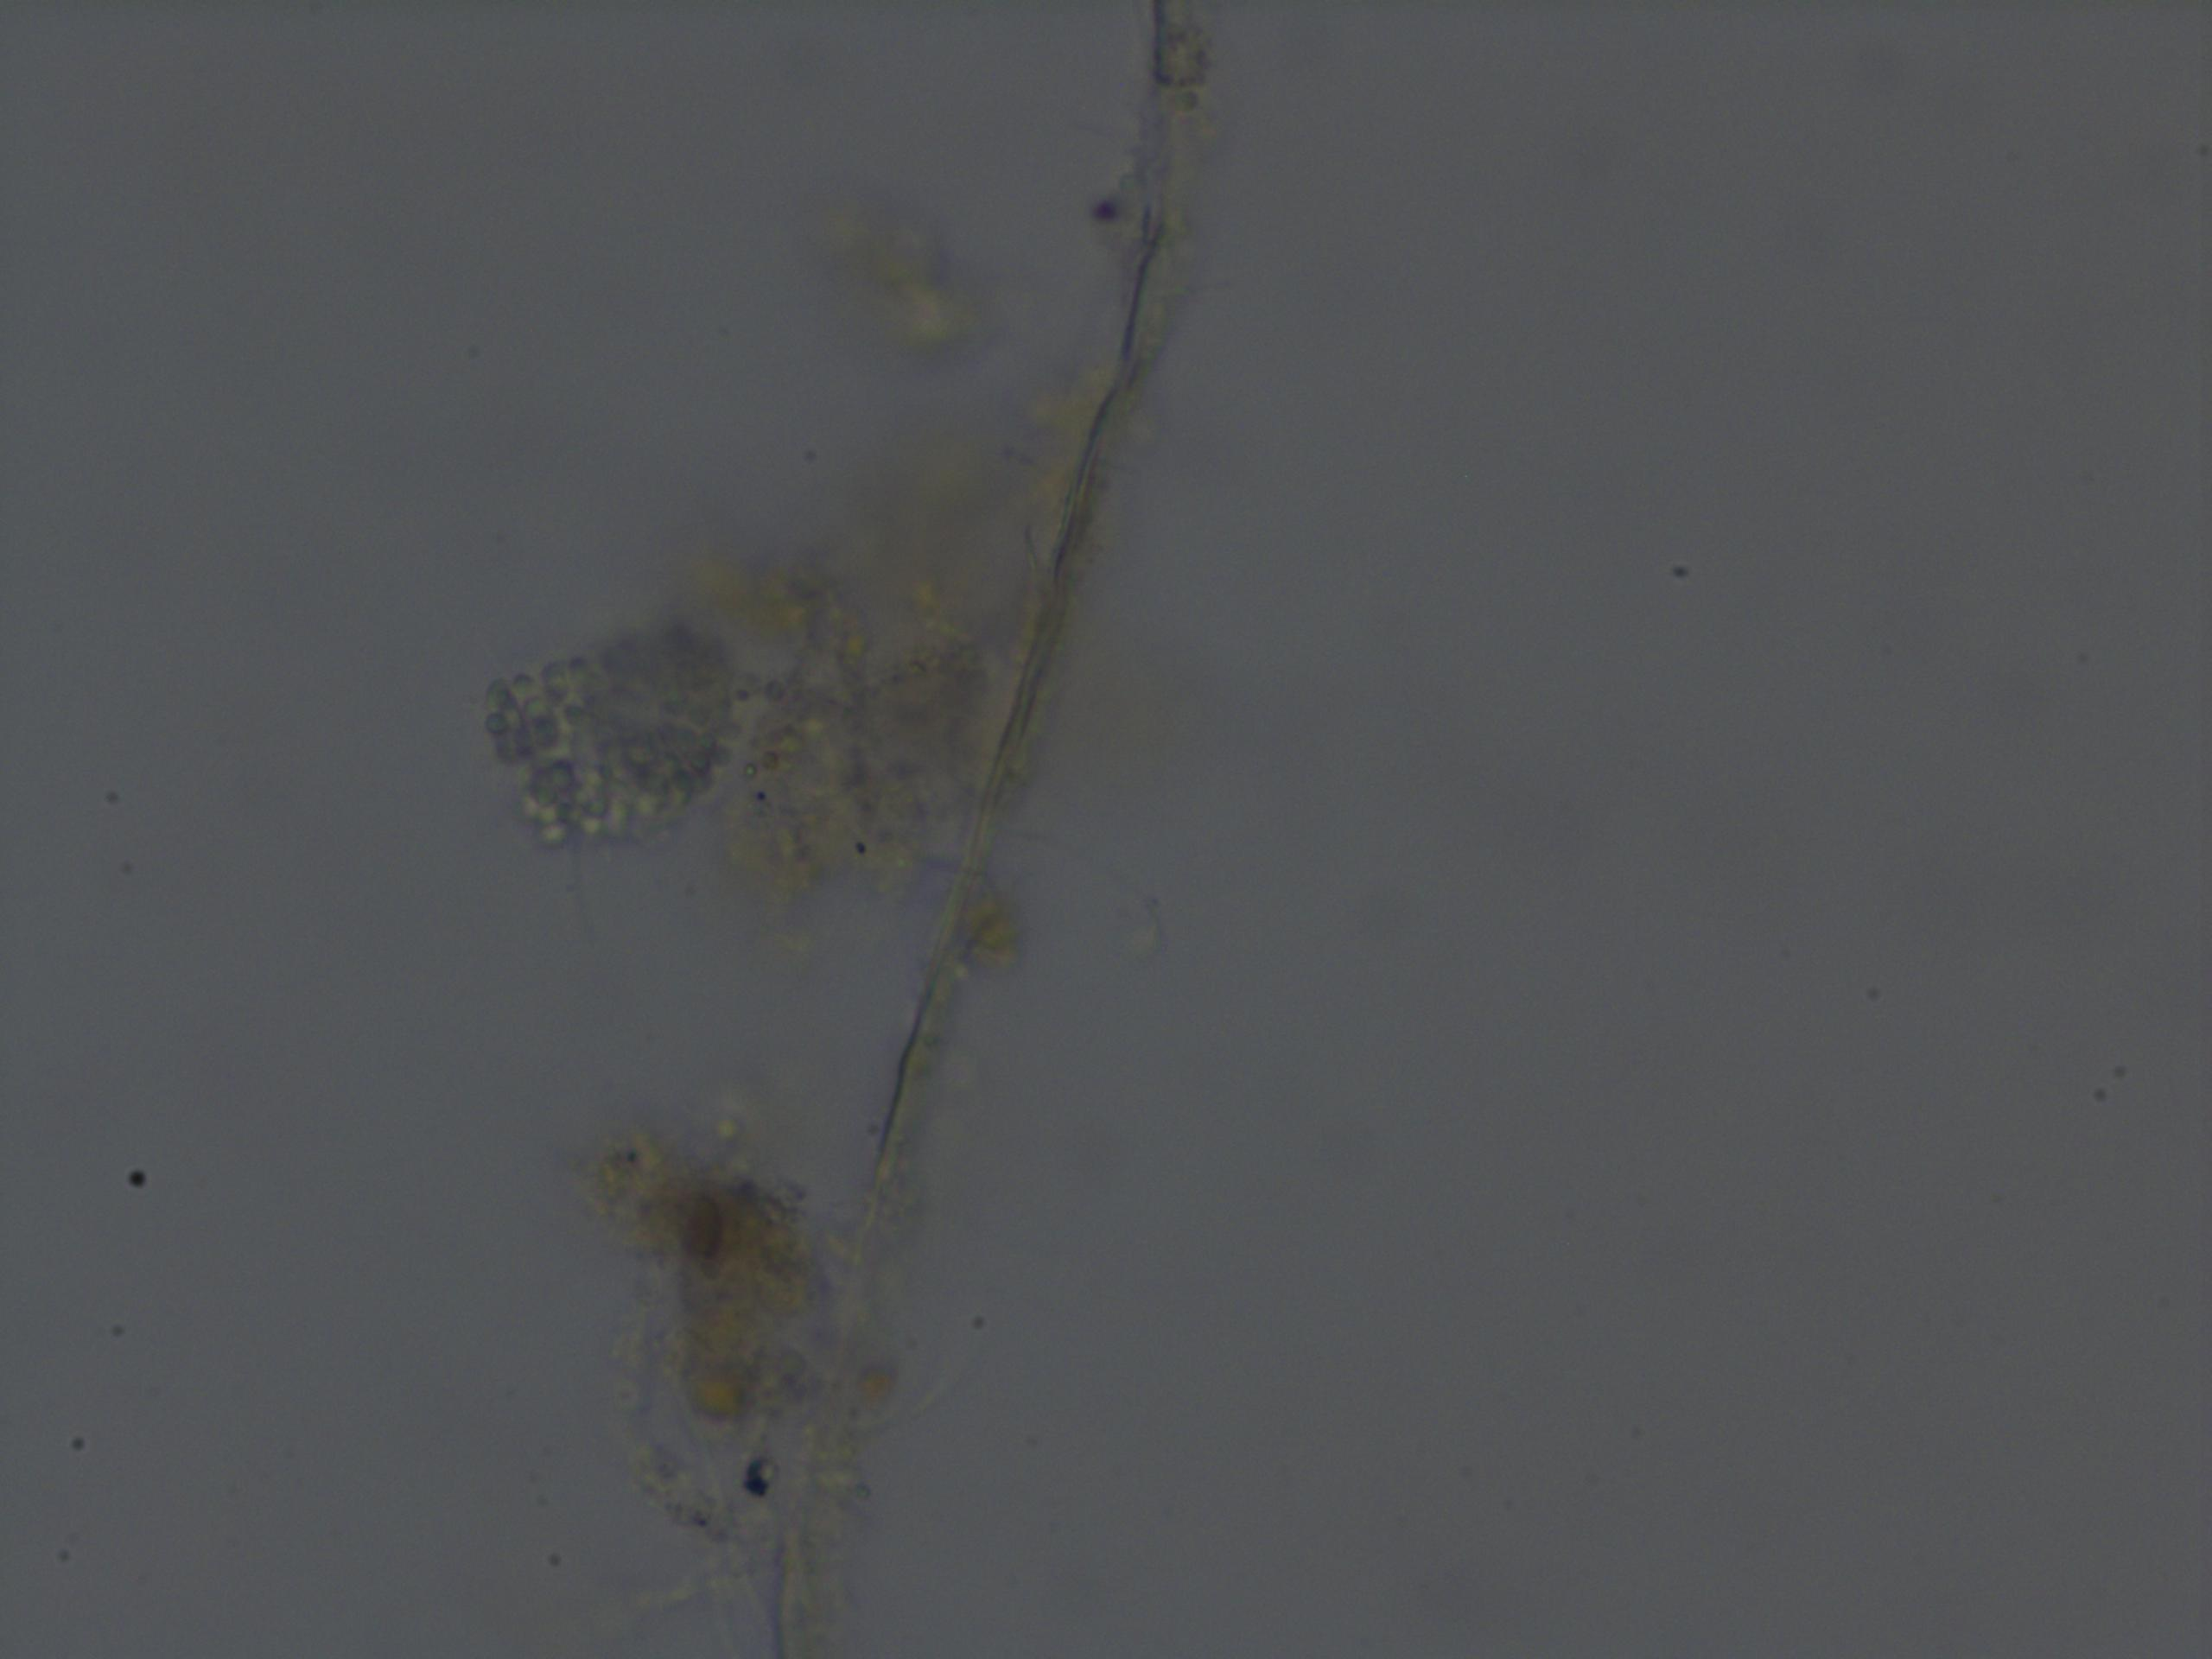filament: (740, 0, 1217, 1638)
